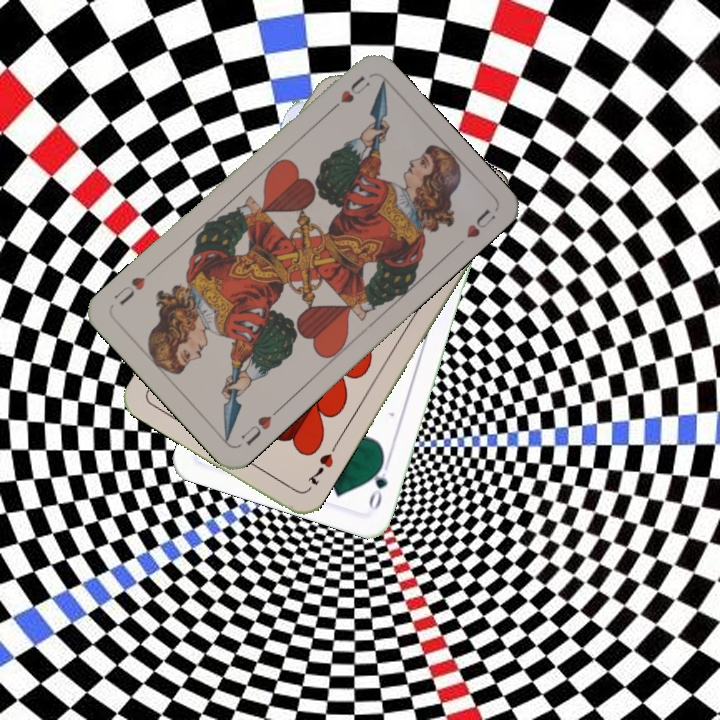GO: (364, 454, 393, 514)
H7: (303, 440, 340, 488)
HU: (324, 71, 373, 116), (236, 404, 283, 449)
